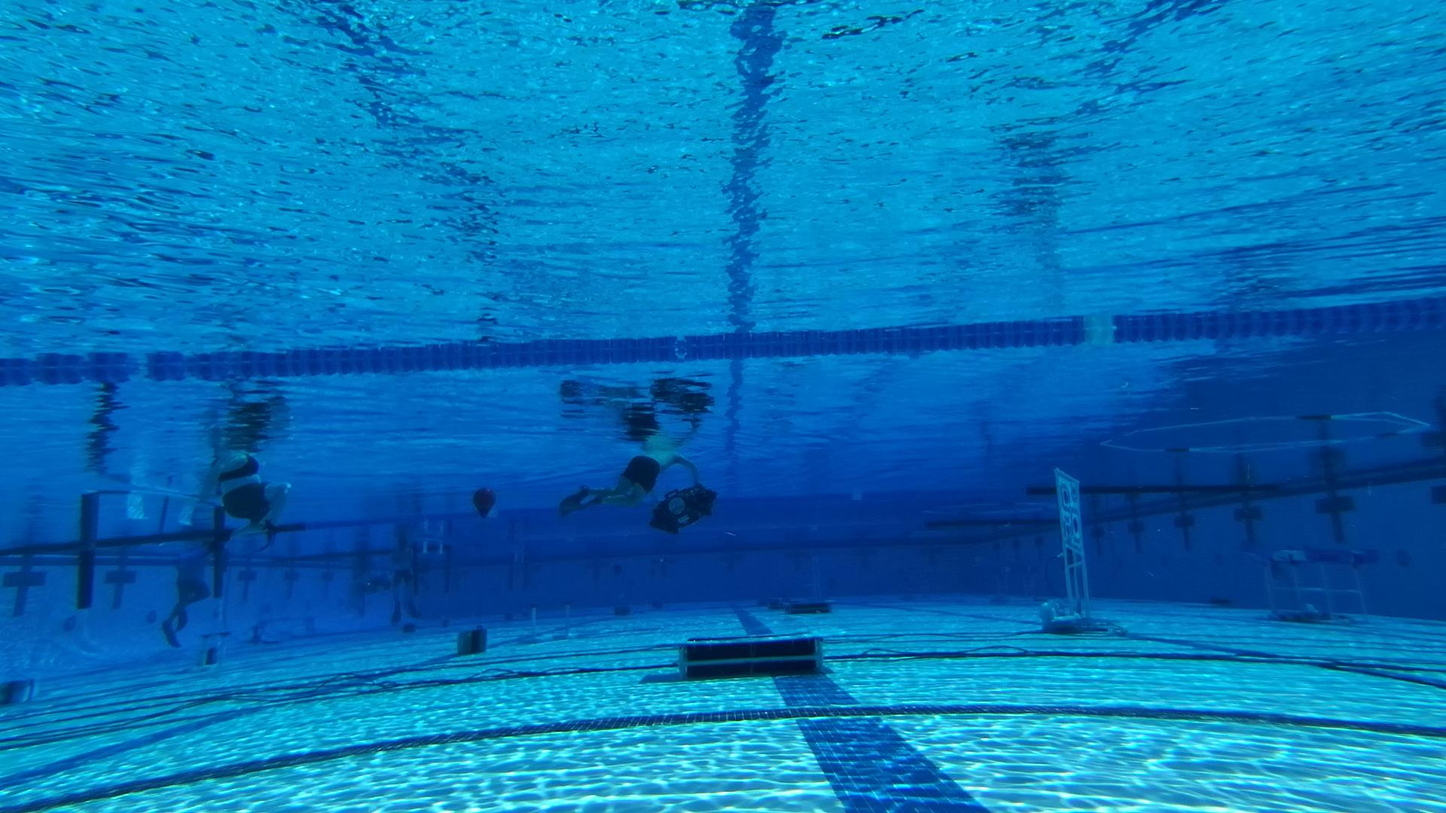buoy: (473, 486, 493, 516)
coral-box-side: (1255, 532, 1396, 632)
dropper-box-side: (673, 629, 828, 681), (792, 598, 831, 616), (768, 596, 784, 613)
path: (515, 599, 584, 637), (253, 608, 329, 642), (189, 631, 237, 672)
